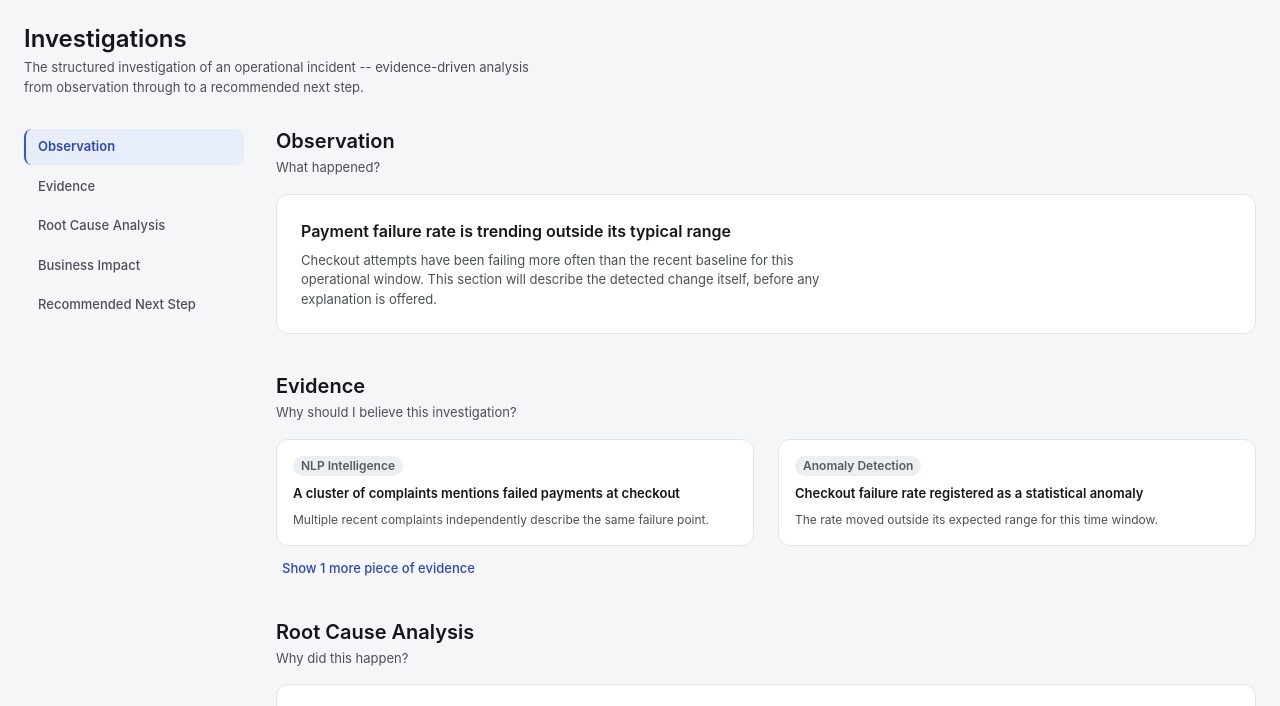
Evidence progressive disclosure › collapses evidence beyond the default count and expands on request
Click the button "Show 1 more piece of evidence": [378, 569] box x1=276 y1=558 x2=481 y2=580
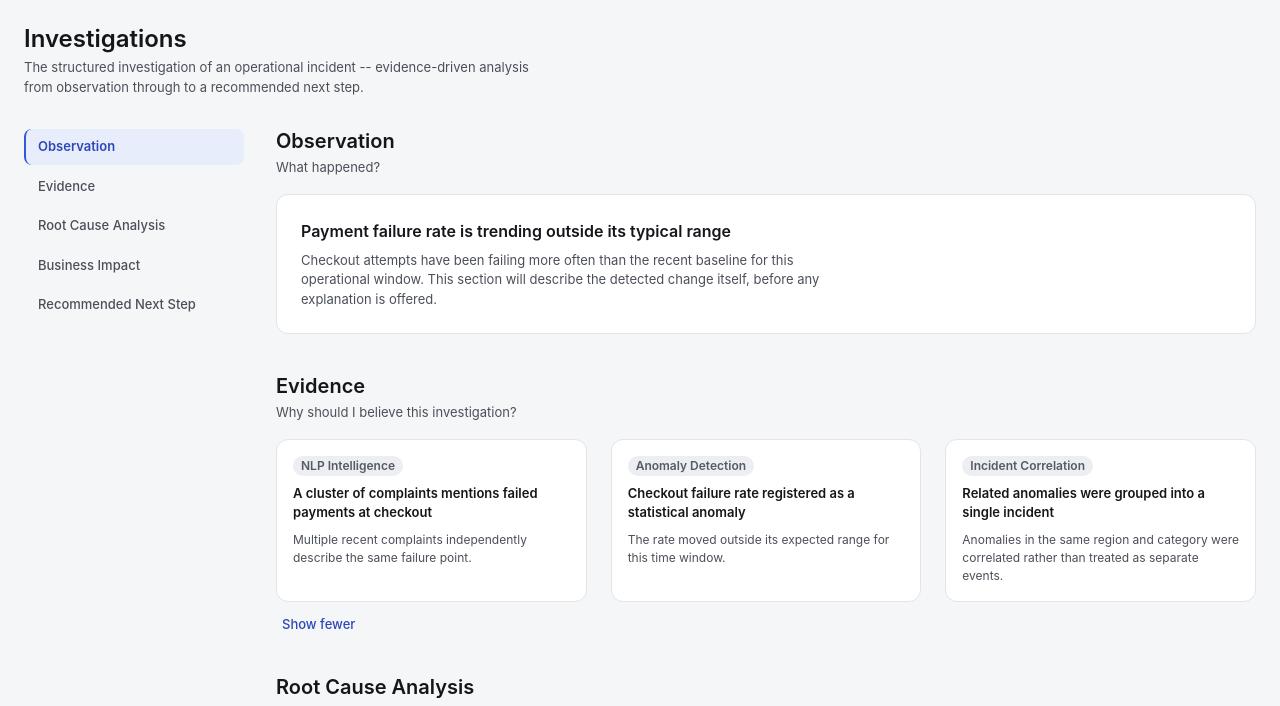
Expected: the button "Show fewer" is shown, x1=276 y1=614 x2=361 y2=635
